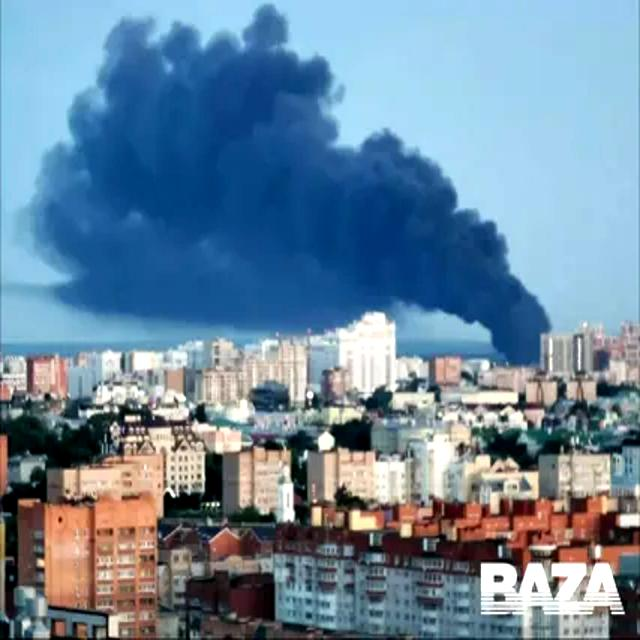no_helmet: (16, 3, 553, 367)
